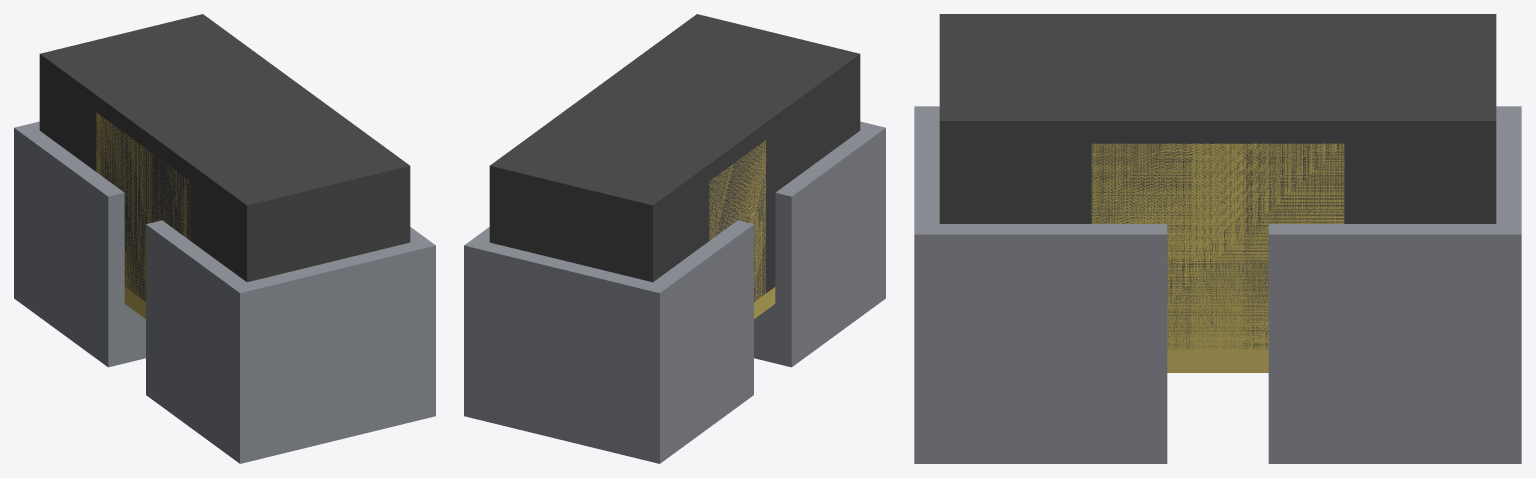
Rendered from inf_barrier.glb.
3 renders of one model, left to right at view 1: azimuth 30°, elevation 25°; view 2: azimuth 150°, elevation 25°; view 3: azimuth 270°, elevation 25°, orthographic. The views are drawn at different scales.
Visible parts, largest first — view 1: world; view 2: world; view 3: world.
Part boxes in pixels (x1,y1,x2,y2): world: (14,14,435,463); world: (464,14,885,463); world: (914,14,1521,463).
Size of the model in its own units: 1.2 by 1.45 by 2.4.
